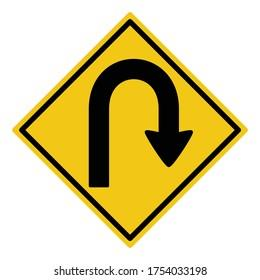Right Hair Pin Bend: (32, 29, 230, 235)
